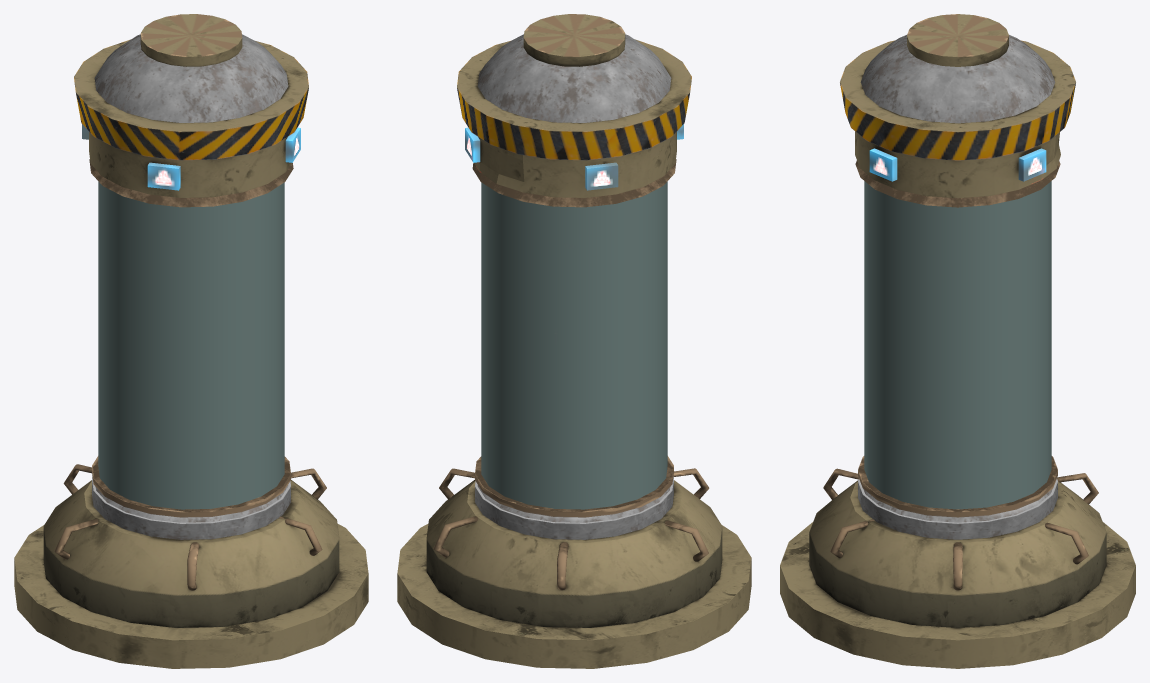
The model's file is Containment Chamber.fbx.
The picture shows the model from 3 angles, left to right: view 1: azimuth 30°, elevation 25°; view 2: azimuth 150°, elevation 25°; view 3: azimuth 270°, elevation 25°; orthographic projection.
Parts seen in each view (by area): view 1: pasted__pasted__pasted__pCylinder2.003; view 2: pasted__pasted__pasted__pCylinder2.003; view 3: pasted__pasted__pasted__pCylinder2.003.
Boxes of the visible parts, x1,y1,x2,y2 form: pasted__pasted__pasted__pCylinder2.003: (14,14,368,668); pasted__pasted__pasted__pCylinder2.003: (397,14,751,668); pasted__pasted__pasted__pCylinder2.003: (780,14,1135,668).
Bounding box in the file's own units: 288 × 498 × 288.
Materials: 1 (1 with a texture image).
